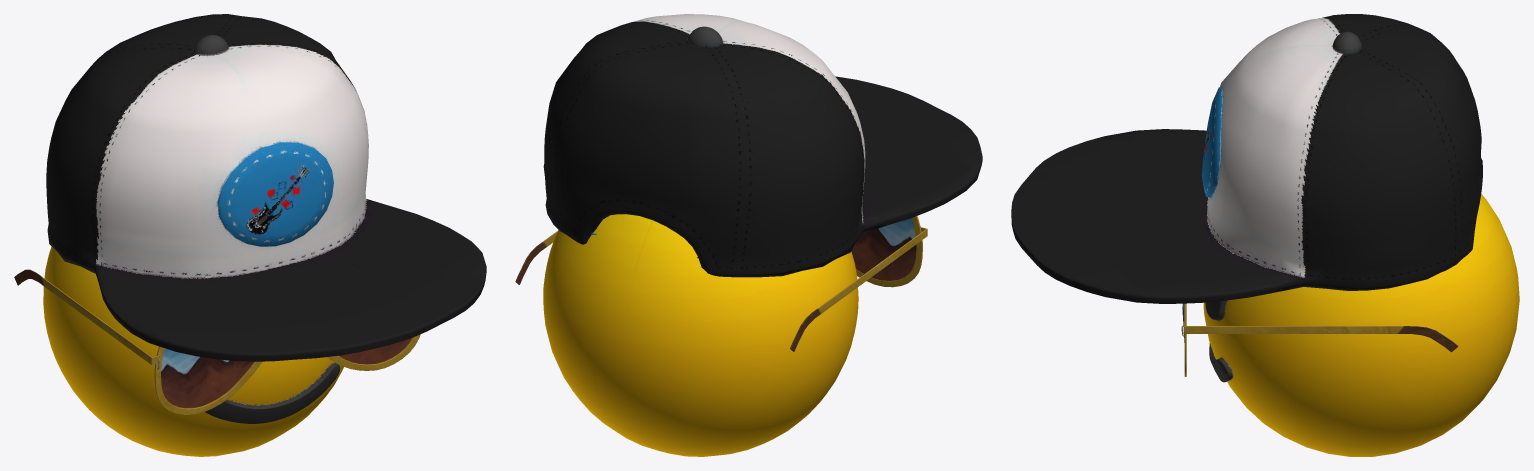
3 views of the same model, side by side, from view 1: azimuth 30°, elevation 25°; view 2: azimuth 150°, elevation 25°; view 3: azimuth 270°, elevation 25° (orthographic).
Visible parts, largest first — view 1: node_id40, node_id36, node_id32; view 2: node_id40, node_id36, node_id32; view 3: node_id40, node_id36, node_id32.
Boxes of the visible parts, bbox=[...] form: node_id40: bbox=[46, 14, 486, 361]; node_id36: bbox=[43, 246, 343, 456]; node_id32: bbox=[14, 269, 420, 414]; node_id40: bbox=[543, 14, 982, 277]; node_id36: bbox=[543, 214, 858, 456]; node_id32: bbox=[515, 216, 927, 351]; node_id40: bbox=[1011, 14, 1482, 303]; node_id36: bbox=[1203, 194, 1519, 456]; node_id32: bbox=[1181, 303, 1458, 376].
Bounding box in the file's own units: 0.00446 × 0.00512 × 0.00575.
3 materials, 3 textured.
